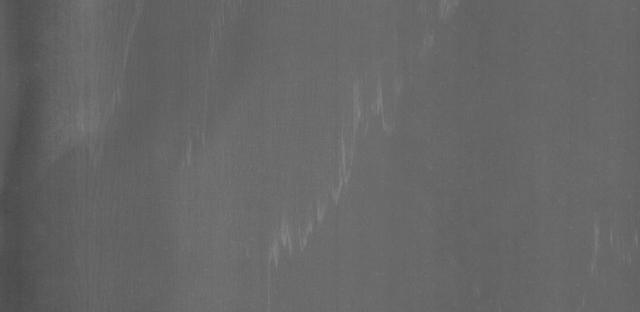silk_spot: (253, 64, 426, 279)
